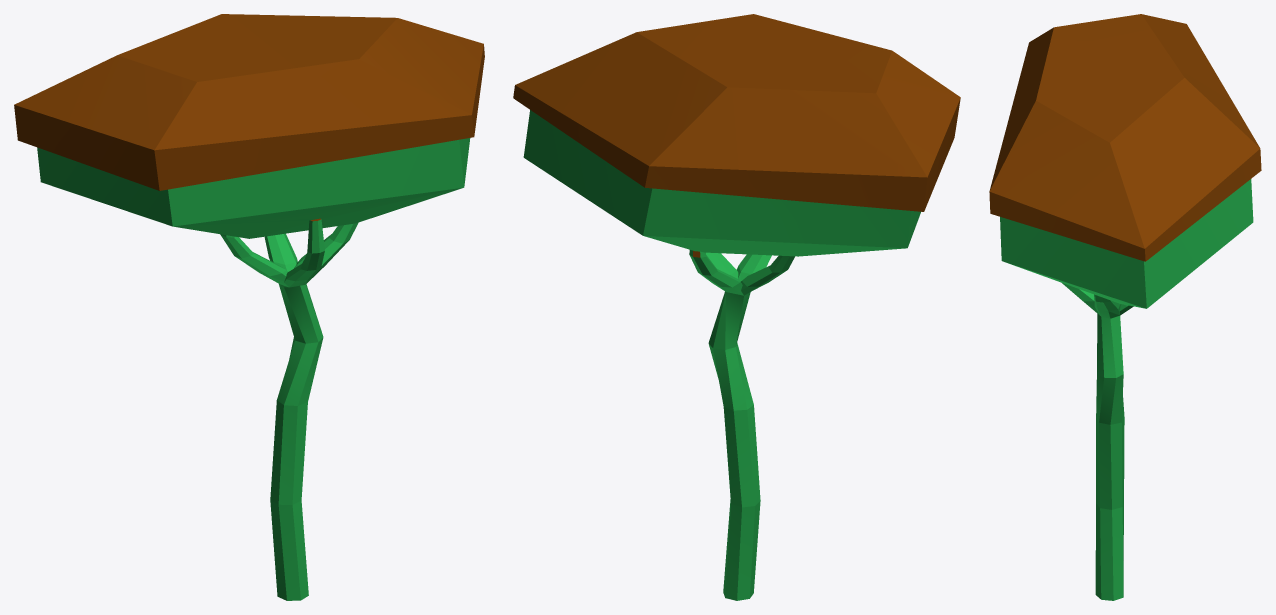
Rendered from Tree2.obj.
3 views of the same model, side by side, from view 1: azimuth 30°, elevation 25°; view 2: azimuth 150°, elevation 25°; view 3: azimuth 270°, elevation 25° (orthographic). The views are drawn at different scales.
Visible parts, largest first — view 1: Cylinder.001_Cylinder.001; view 2: Cylinder.001_Cylinder.001; view 3: Cylinder.001_Cylinder.001.
Part boxes in pixels (<box>): Cylinder.001_Cylinder.001: <box>14,14,484,600</box>; Cylinder.001_Cylinder.001: <box>513,14,960,600</box>; Cylinder.001_Cylinder.001: <box>989,14,1261,600</box>.
Bounding box in the file's own units: 2.99 × 3.61 × 1.74.
